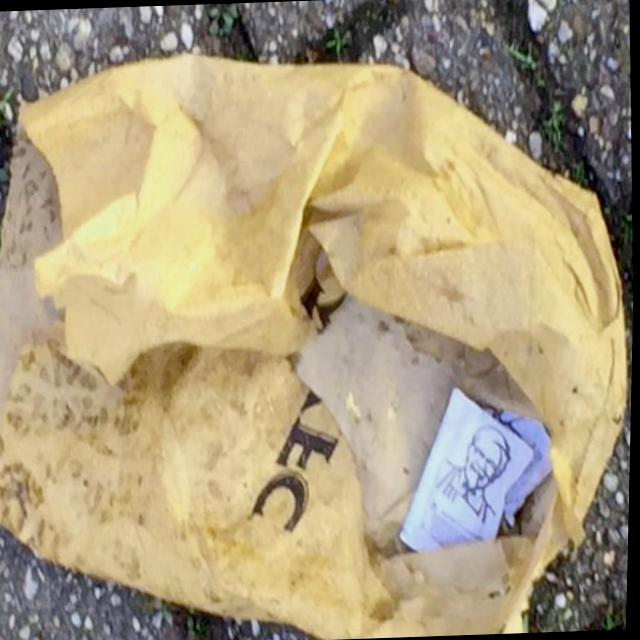Paper: (0, 28, 640, 640)
